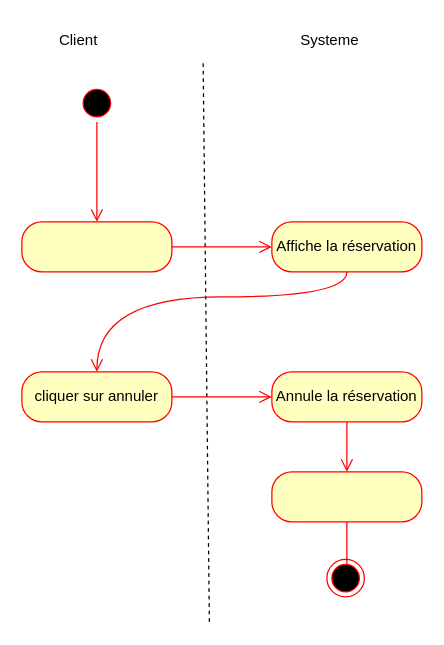
This 444x645 diagram has some shape labels left out. The centre of each missing label's shape, as x and y in pixels:
Cliquer sur la réservation: the point at 96,246
Rembourse le client: the point at 346,496
